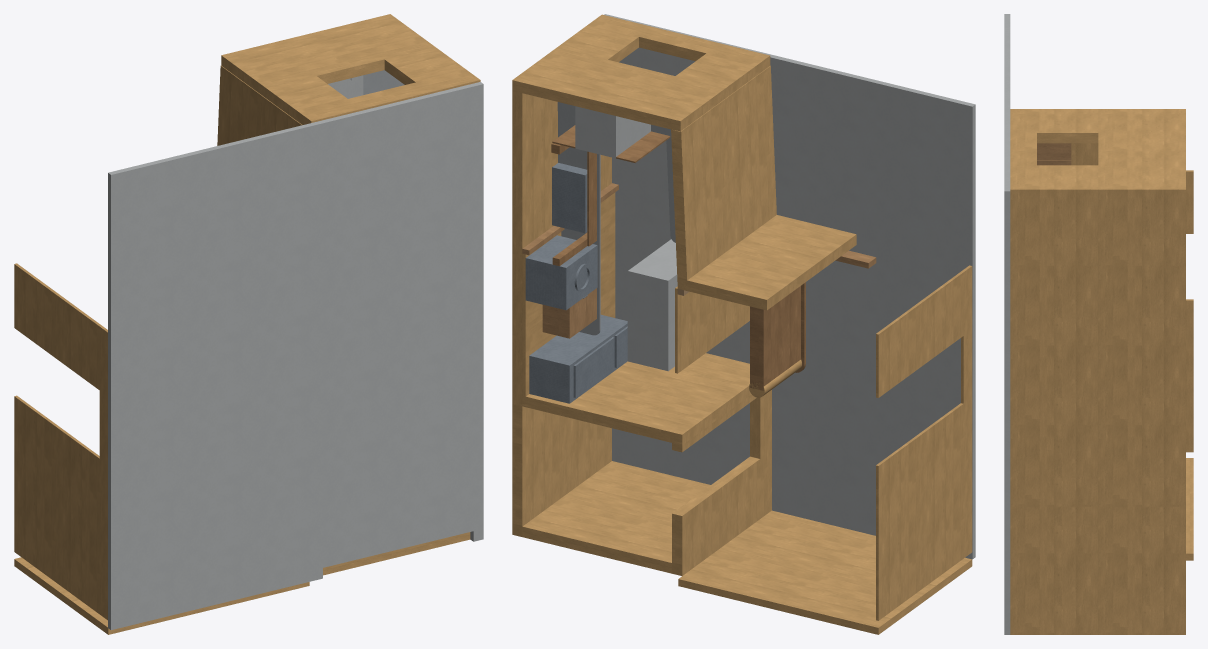
The model's file is cocina2-mwrxuhz5.glb.
The picture shows the model from 3 angles, left to right: view 1: azimuth 30°, elevation 25°; view 2: azimuth 150°, elevation 25°; view 3: azimuth 270°, elevation 25°; orthographic projection. The views are drawn at different scales.
Parts seen in each view (by area): view 1: Body58, Body55, pared_(8), pared, Body57, pared_(5), piedra_(3); view 2: Body58, Body55, Body57, pared_(8), pared, pared_(3), pared_(5), pared_(1), pared_(2), pared_(7), pared_(6), nevera_gas (+13 smaller); view 3: pared_(3), pared_(6), pared_(8), Body58, Body55, Body57, Body45, pared.
Part boxes in pixels (x1,y1,x2,y2): Body58: (108, 82, 483, 630); Body55: (14, 263, 107, 620); pared_(8): (221, 14, 480, 125); pared: (217, 66, 301, 145); Body57: (14, 557, 309, 634); pared_(5): (323, 532, 470, 575); piedra_(3): (363, 70, 404, 94); Body58: (604, 14, 975, 559); Body55: (876, 265, 972, 620); Body57: (678, 510, 972, 634); pared_(8): (512, 14, 770, 131); pared: (671, 66, 776, 280); pared_(3): (512, 91, 615, 406); pared_(5): (522, 461, 710, 573); pared_(1): (522, 353, 751, 445); pared_(2): (677, 215, 856, 310); pared_(7): (672, 390, 771, 575); pared_(6): (512, 404, 611, 536); nevera_gas: (529, 314, 627, 403); pared_(3): (1010, 200, 1185, 506); pared_(6): (1010, 506, 1185, 634); pared_(8): (1010, 109, 1185, 199); Body58: (1004, 14, 1010, 634); Body55: (1186, 170, 1193, 452); Body57: (1186, 458, 1193, 560); Body45: (1037, 143, 1071, 165); pared: (1071, 143, 1098, 165).
Bounding box in the file's own units: 5.49 × 6.53 × 2.48.
Materials: 10 (9 with a texture image).
